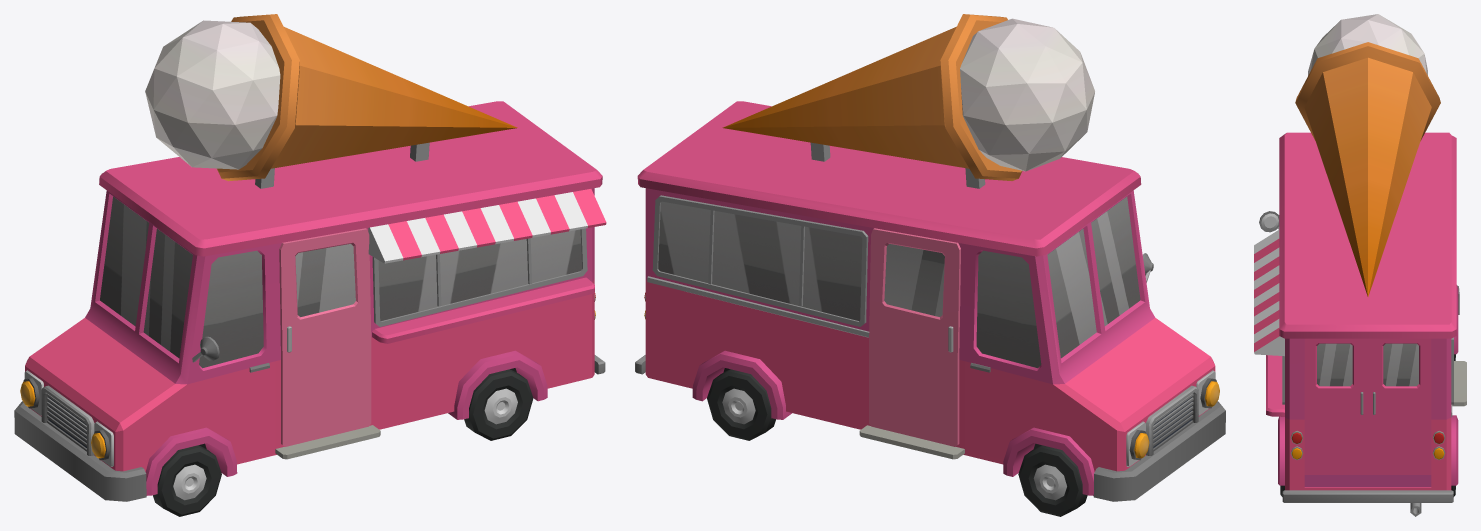
File: IceTruck_2_C.fbx
The picture shows the model from 3 angles, left to right: view 1: azimuth 30°, elevation 25°; view 2: azimuth 150°, elevation 25°; view 3: azimuth 270°, elevation 25°; orthographic projection. The views are drawn at different scales.
Parts seen in each view (by area): view 1: IceTruck_2_C, RL, FL; view 2: IceTruck_2_C, RR, FR; view 3: IceTruck_2_C.
Part boxes in pixels (x1,y1,x2,y2): IceTruck_2_C: (14,14,606,501); RL: (464,369,533,440); FL: (153,445,221,516); IceTruck_2_C: (635,14,1225,501); RR: (707,369,775,440); FR: (1018,445,1087,516); IceTruck_2_C: (1254,14,1466,516).
Bounding box in the file's own units: 4.16 × 3.43 × 1.76.
